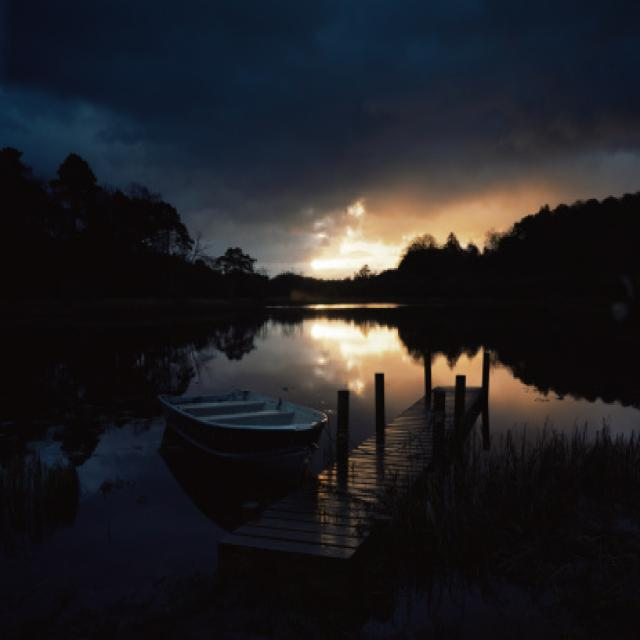Boat: (152, 383, 336, 472)
